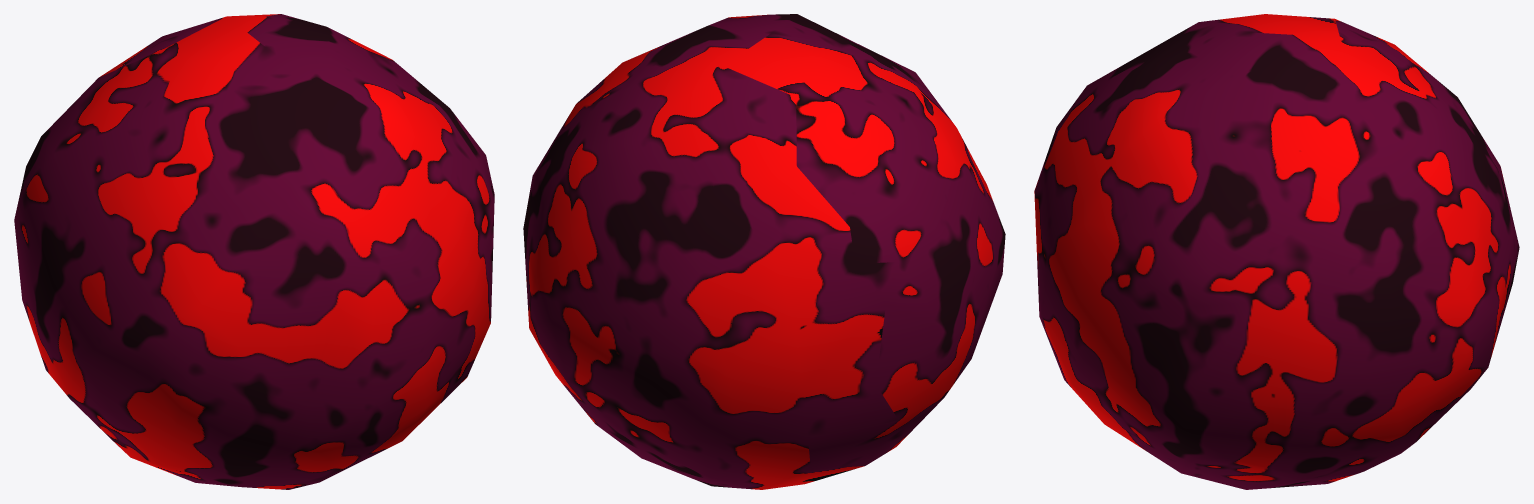
Rendered from red_planet.glb.
3 renders of one model, left to right at view 1: azimuth 30°, elevation 25°; view 2: azimuth 150°, elevation 25°; view 3: azimuth 270°, elevation 25°, orthographic.
Visible parts, largest first — view 1: Earth.001; view 2: Earth.001; view 3: Earth.001.
Boxes of the visible parts, box(x1,y1,x2,y2) form: Earth.001: box(14, 14, 494, 489); Earth.001: box(523, 14, 1005, 489); Earth.001: box(1034, 14, 1519, 489).
Size of the model in its own units: 5.75 by 5.79 by 5.81.
Materials: 1 (1 with a texture image).
